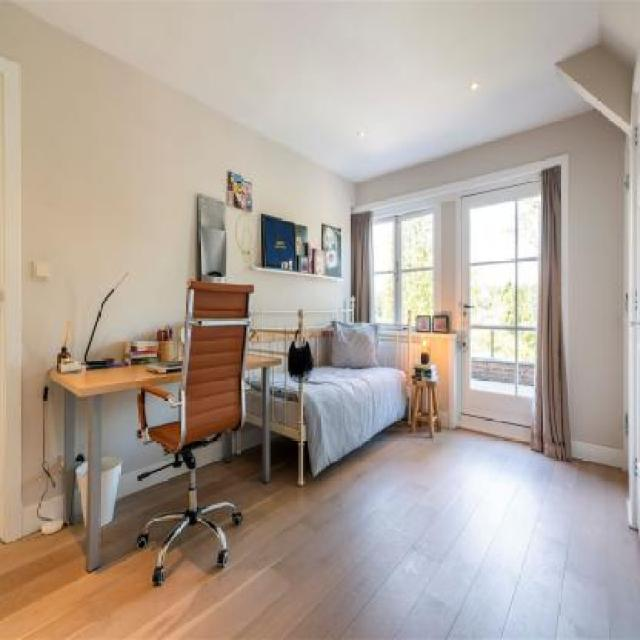floor: (0, 417, 640, 640)
